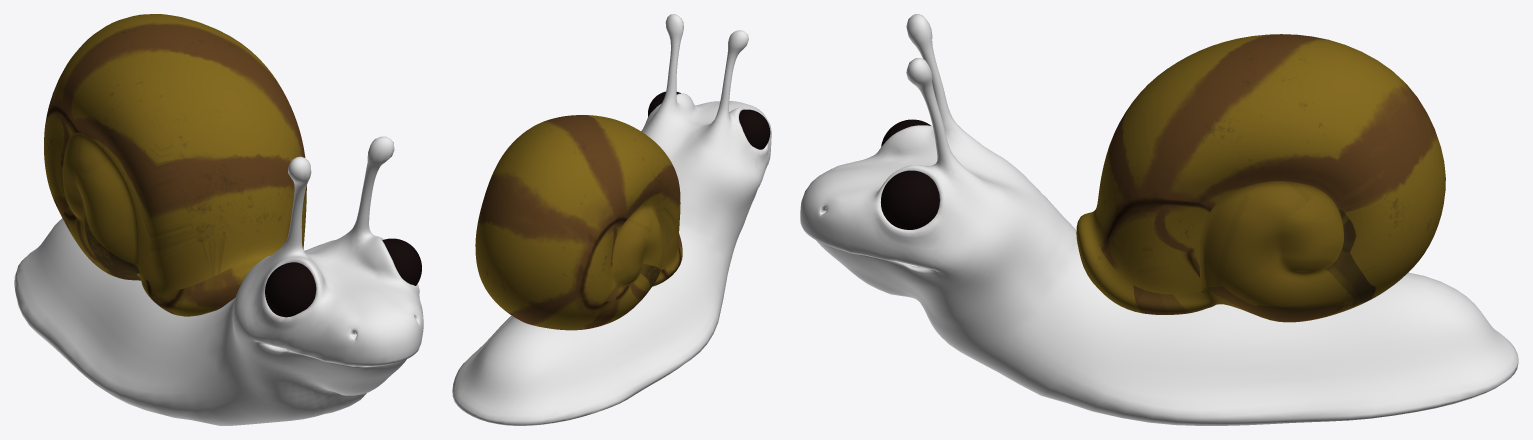
File: snailFA_110.fbx
The picture shows the model from 3 angles, left to right: view 1: azimuth 30°, elevation 25°; view 2: azimuth 150°, elevation 25°; view 3: azimuth 270°, elevation 25°; orthographic projection. The views are drawn at different scales.
Parts seen in each view (by area): view 1: HouseRetopo.007, Body.006, eyes.003; view 2: Body.006, HouseRetopo.007, eyes.003; view 3: Body.006, HouseRetopo.007, eyes.003.
Boxes of the visible parts, x1,y1,x2,y2 form: HouseRetopo.007: (44,14,306,316); Body.006: (14,136,423,425); eyes.003: (265,238,421,317); Body.006: (452,14,771,425); HouseRetopo.007: (475,115,682,330); eyes.003: (648,91,770,149); Body.006: (800,14,1518,425); HouseRetopo.007: (1076,34,1445,322); eyes.003: (880,119,939,229).
Bounding box in the file's own units: 3.03 × 7.81 × 4.05.
